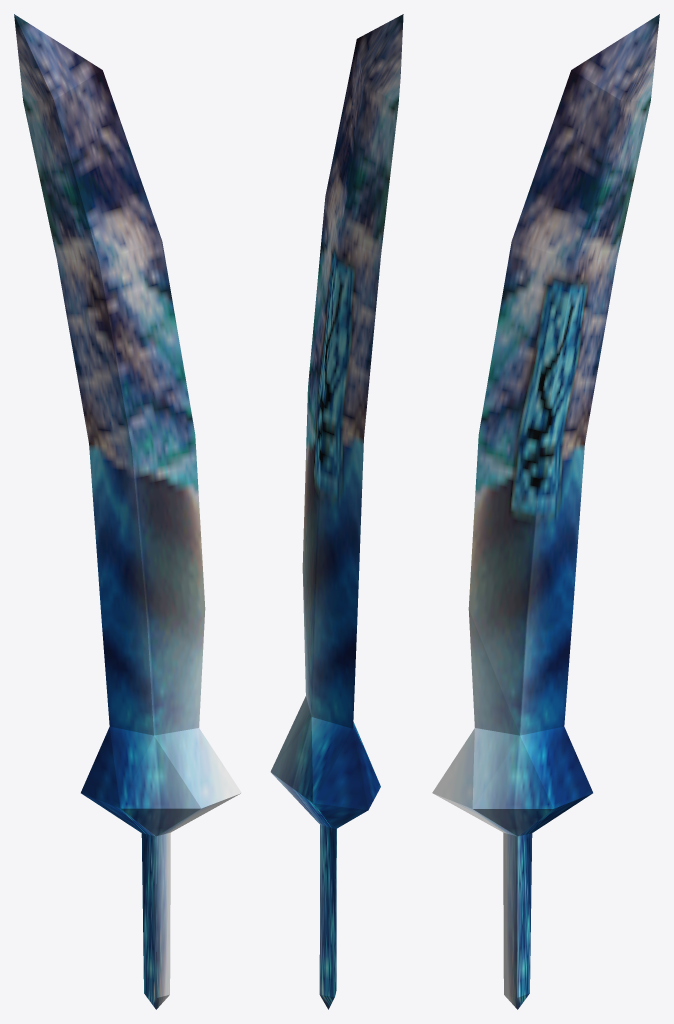
The model's file is heavybladev01_2.obj.
3 views of the same model, side by side, from view 1: azimuth 90°, elevation 25°; view 2: azimuth 210°, elevation 25°; view 3: azimuth 270°, elevation 25° (orthographic). The views are drawn at different scales.
Parts seen in each view (by area): view 1: MDL_cw2hkt01_2; view 2: MDL_cw2hkt01_2; view 3: MDL_cw2hkt01_2.
Part boxes in pixels (box(x1,y1,x2,y2)): MDL_cw2hkt01_2: box(14, 14, 241, 1009); MDL_cw2hkt01_2: box(270, 14, 403, 1009); MDL_cw2hkt01_2: box(432, 14, 659, 1009).
Size of the model in its own units: 0.1213 by 1.8 by 0.3724.
